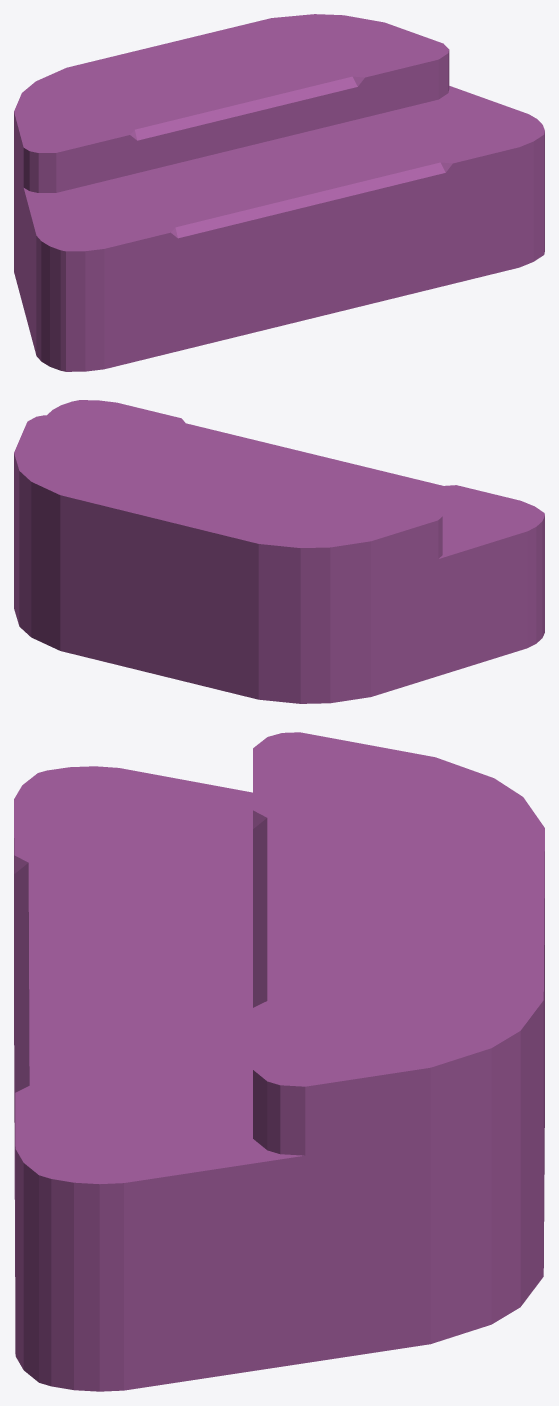
Rendered from platform.glb.
3 views of the same model, one above another, from view 1: azimuth 30°, elevation 25°; view 2: azimuth 150°, elevation 25°; view 3: azimuth 270°, elevation 25° (orthographic). The views are drawn at different scales.
Parts seen in each view (by area): view 1: Stage-col; view 2: Stage-col; view 3: Stage-col.
Boxes of the visible parts, x1,y1,x2,y2 form: Stage-col: [14, 14, 544, 371]; Stage-col: [14, 400, 544, 703]; Stage-col: [14, 732, 544, 1391].
Bounding box in the file's own units: 8.64 × 2.66 × 4.64.
